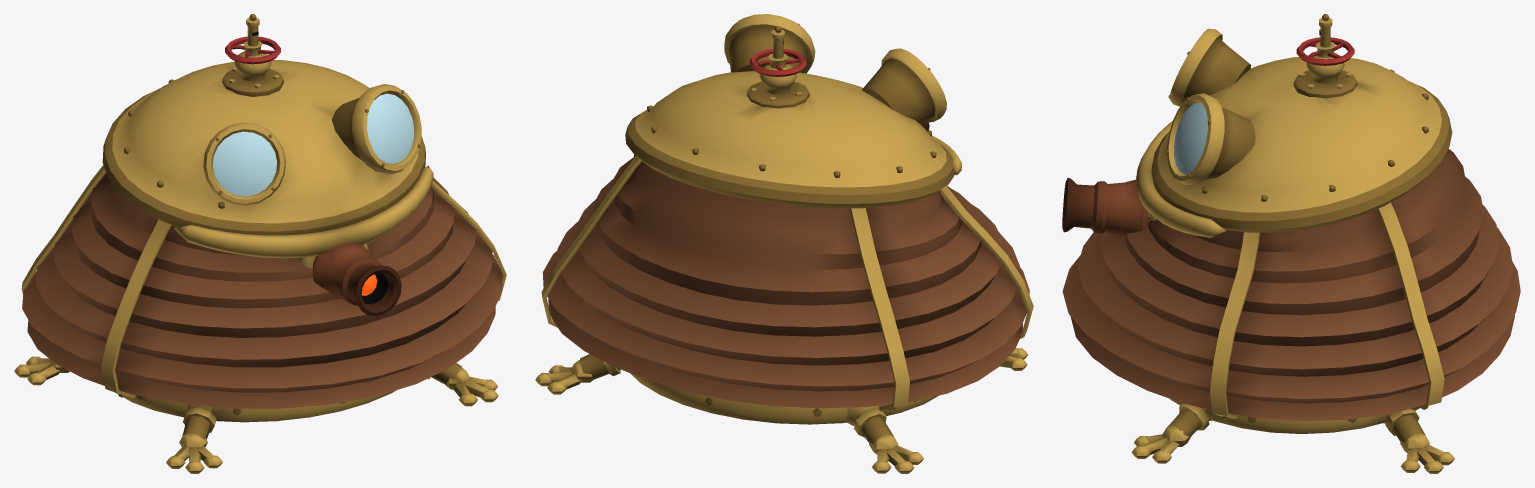
File: bellows_toad.glb
The picture shows the model from 3 angles, left to right: view 1: azimuth 30°, elevation 25°; view 2: azimuth 150°, elevation 25°; view 3: azimuth 270°, elevation 25°; orthographic projection. The views are drawn at different scales.
Visible parts, largest first — view 1: body, eye_L, eye_R, valve; view 2: body, eye_R, eye_L, valve; view 3: body, eye_L, eye_R, valve.
Part boxes in pixels (box(x1,y1,x2,y2)): body: box(14, 60, 506, 473); eye_L: box(331, 84, 421, 174); eye_R: box(203, 122, 285, 205); valve: box(222, 14, 283, 96); body: box(535, 71, 1033, 473); eye_R: box(862, 48, 946, 123); eye_L: box(724, 14, 815, 73); valve: box(746, 26, 809, 108); body: box(1062, 56, 1520, 473); eye_L: box(1166, 93, 1255, 184); eye_R: box(1168, 28, 1251, 106); valve: box(1293, 14, 1357, 98).
Size of the model in its own units: 1.22 by 0.9774 by 1.1.
